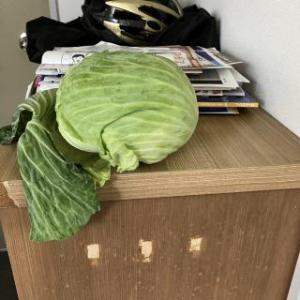cabbage: (0, 50, 200, 242)
